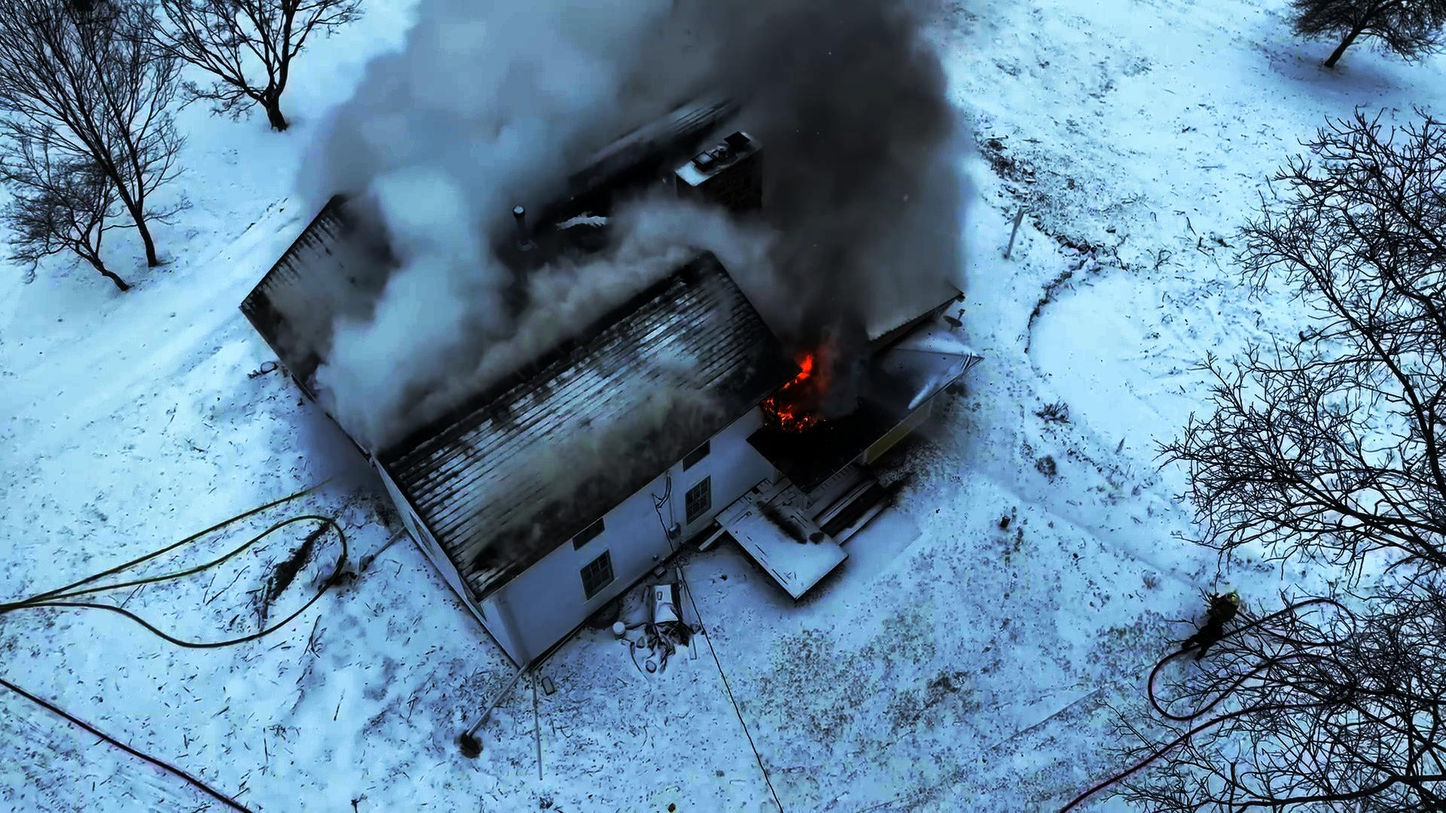fire: (761, 333, 837, 420)
smoke: (769, 0, 910, 281), (522, 6, 864, 118)
